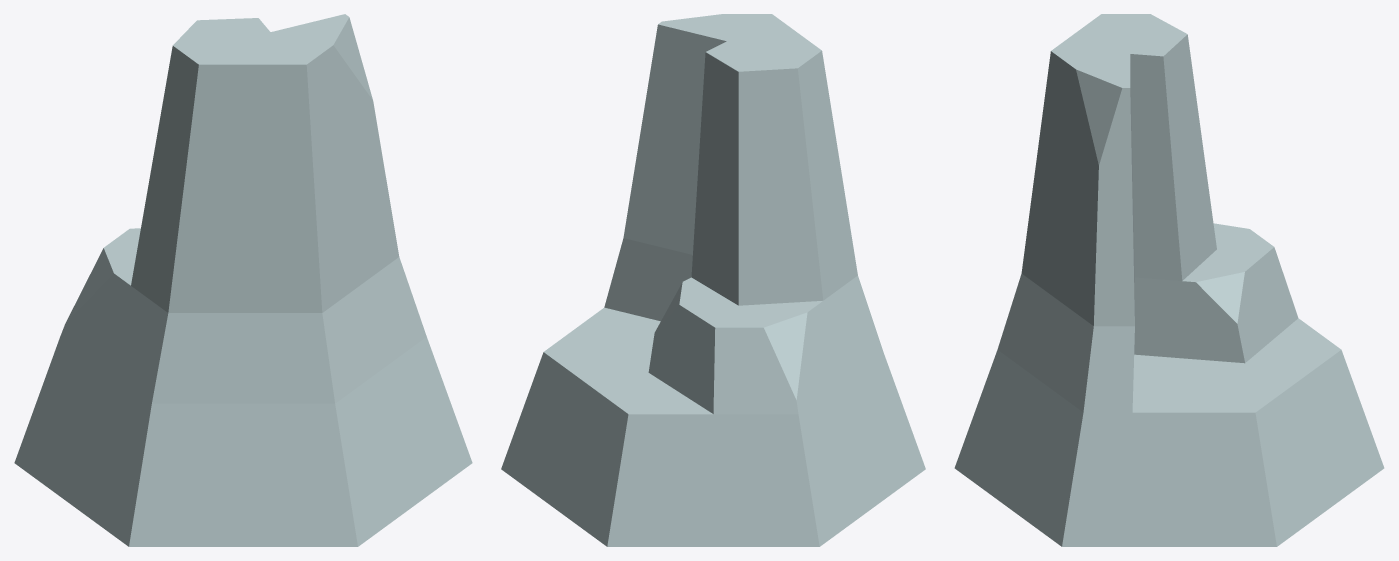
The model's file is stone_tallH.glb.
3 renders of one model, left to right at view 1: azimuth 30°, elevation 25°; view 2: azimuth 150°, elevation 25°; view 3: azimuth 270°, elevation 25°, orthographic. The views are drawn at different scales.
Visible parts, largest first — view 1: stone_tallH; view 2: stone_tallH; view 3: stone_tallH.
Part boxes in pixels (x1=…): stone_tallH: x1=14, y1=14, x2=472, y2=546; stone_tallH: x1=501, y1=14, x2=925, y2=546; stone_tallH: x1=954, y1=14, x2=1384, y2=546.
Size of the model in its own units: 0.5749 by 0.7108 by 0.6639.
